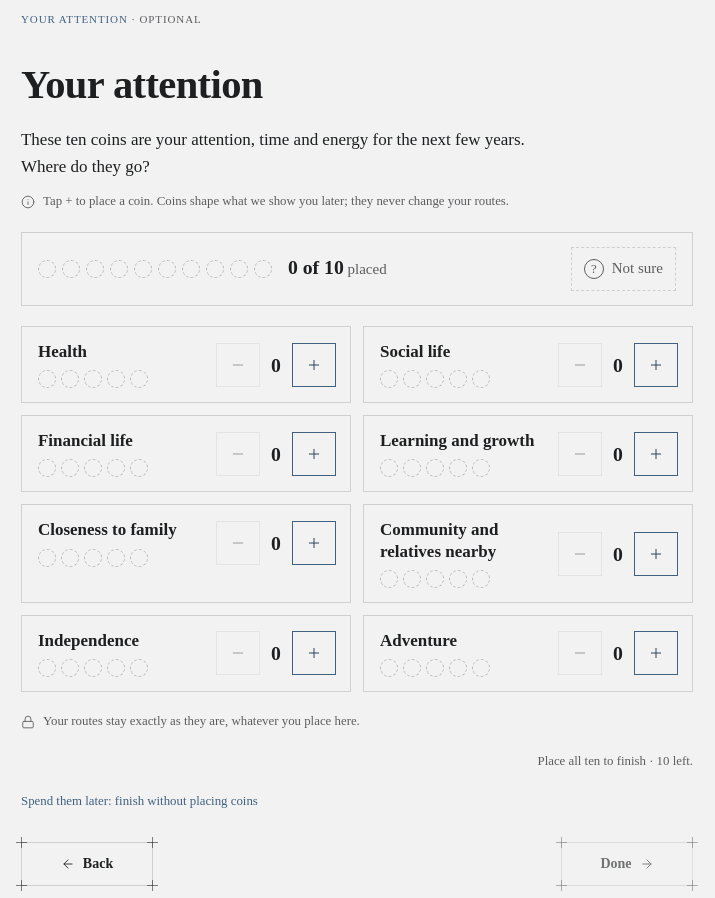
refuses a sixth coin on a pile, on that pile, and marks its + unavailable
This screenshot has width=715, height=898.
What coordinates should you click on to do the following:
click the button named "Place a coin on Health"
I would click on:
 (314, 364)
Its box is [292,342,336,386].
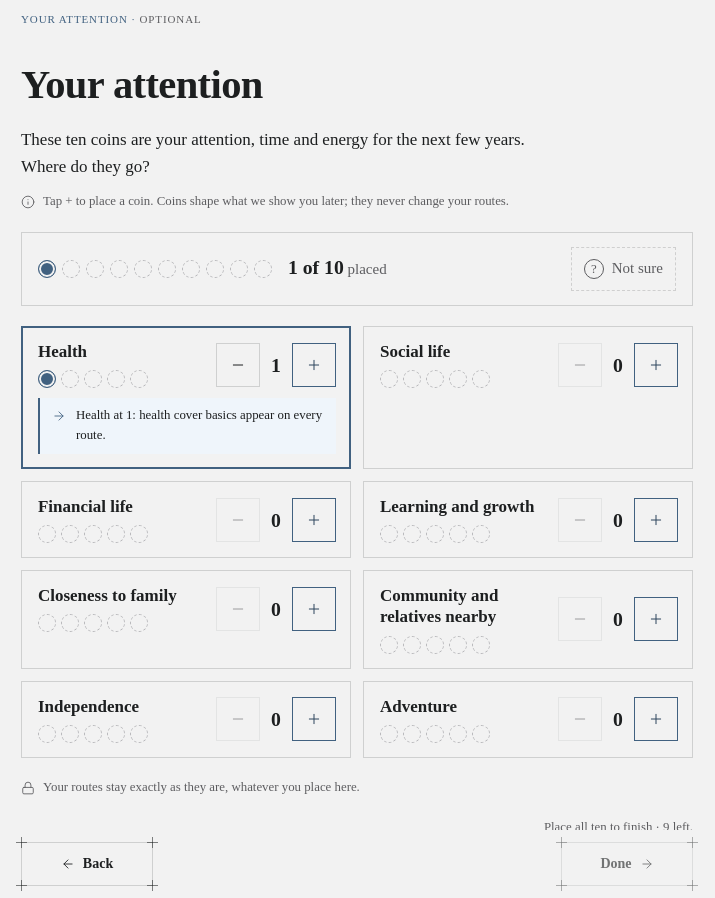
What coordinates should you click on to do the following:
click the button named "Place a coin on Health"
I would click on:
 (314, 364)
Its box is [292,342,336,386].
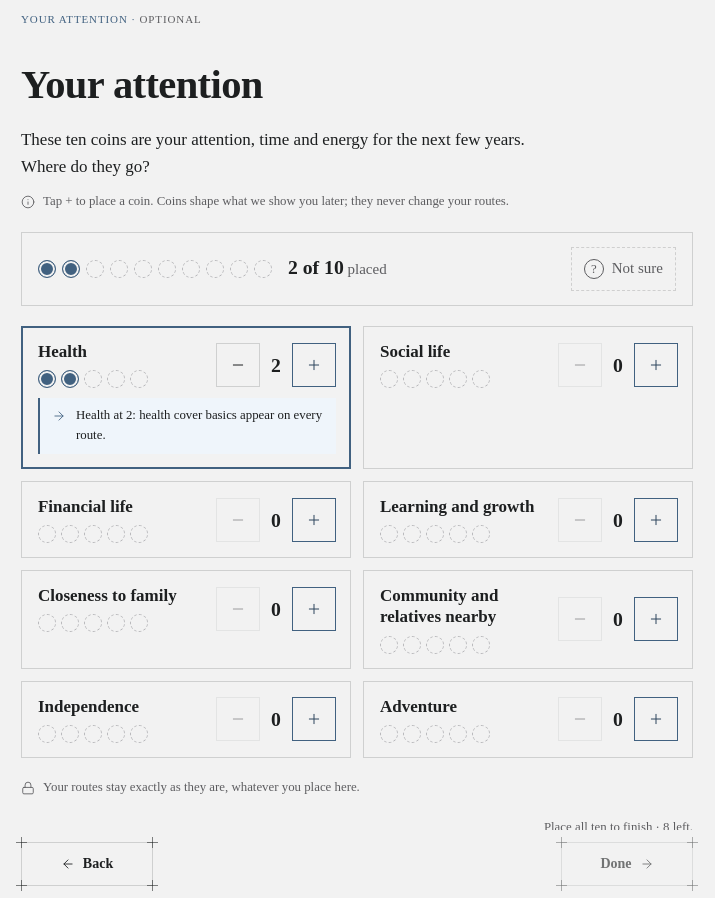
What coordinates should you click on to do the following:
click the button named "Place a coin on Health"
I would click on:
 (314, 364)
Its box is [292,342,336,386].
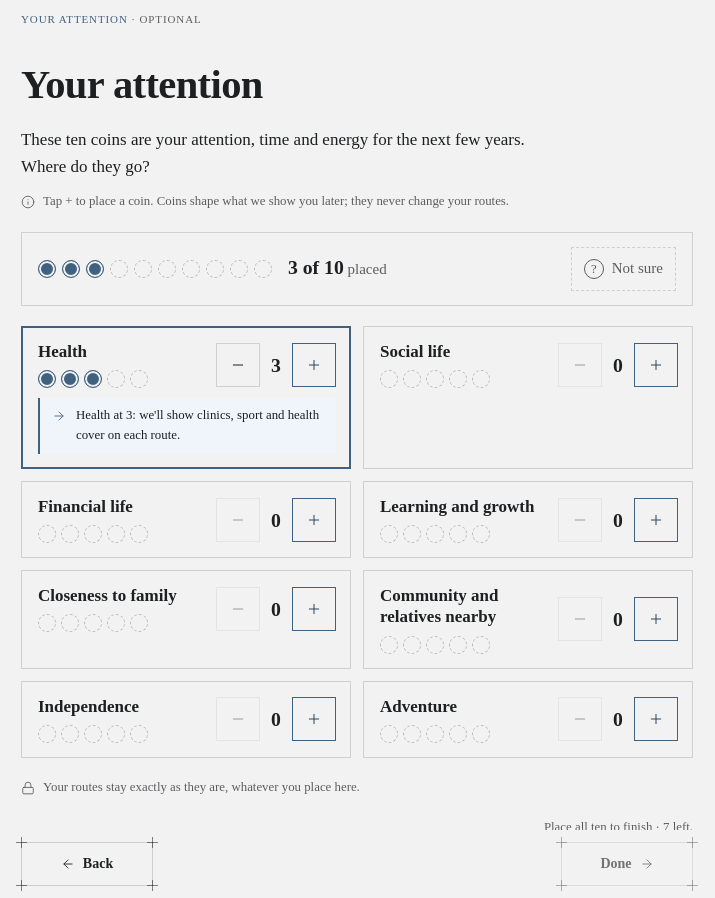
What coordinates should you click on to do the following:
click the button named "Place a coin on Health"
I would click on:
 (314, 364)
Its box is [292,342,336,386].
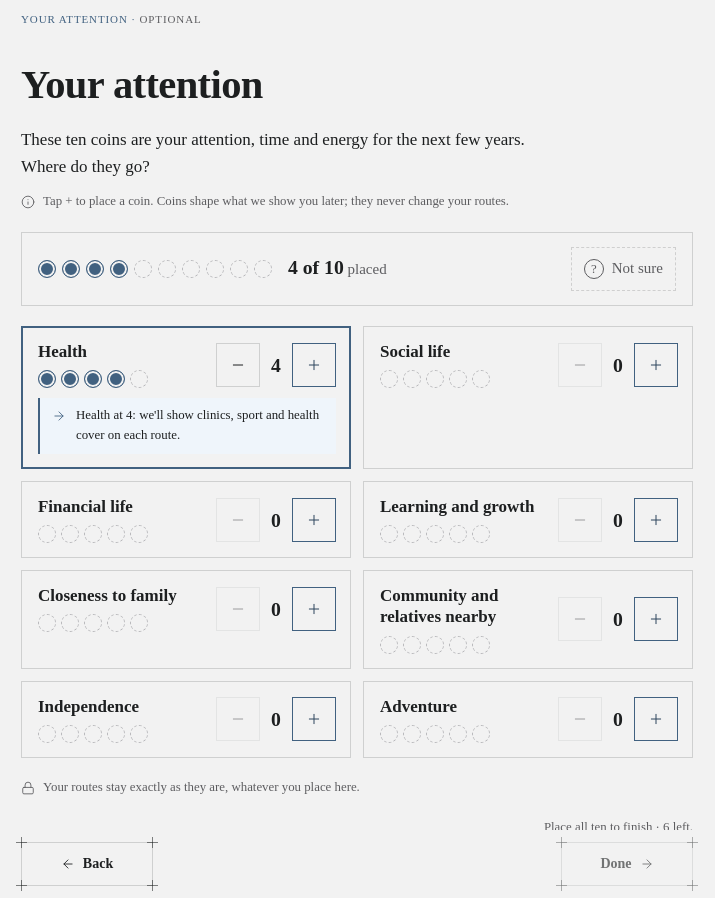
What coordinates should you click on to do the following:
click the button named "Place a coin on Health"
I would click on:
 (314, 364)
Its box is [292,342,336,386].
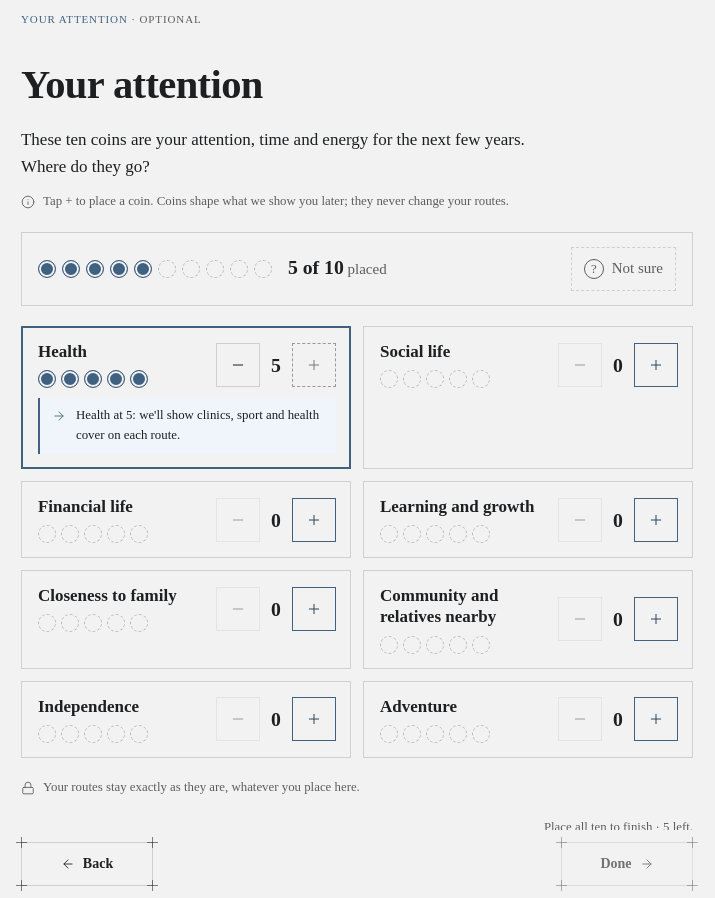
What coordinates should you click on to do the following:
click the button named "Place a coin on Health"
I would click on:
 (314, 364)
Its box is [292,342,336,386].
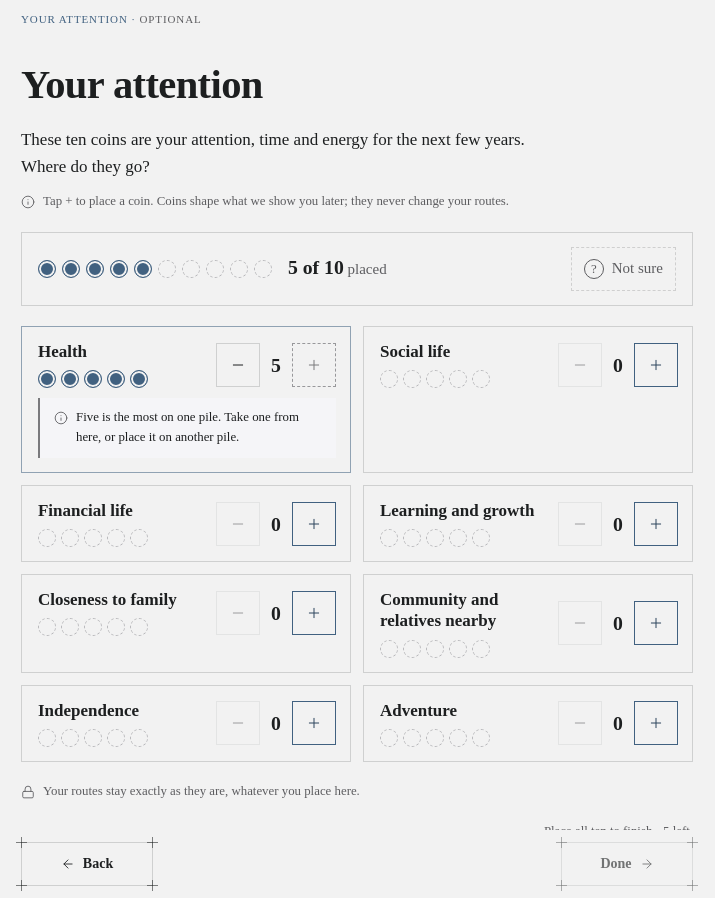
Check: the text "Five is the most on one pile. Take one from here, or place it on another pile." is shown, box [76,408,322,448]
